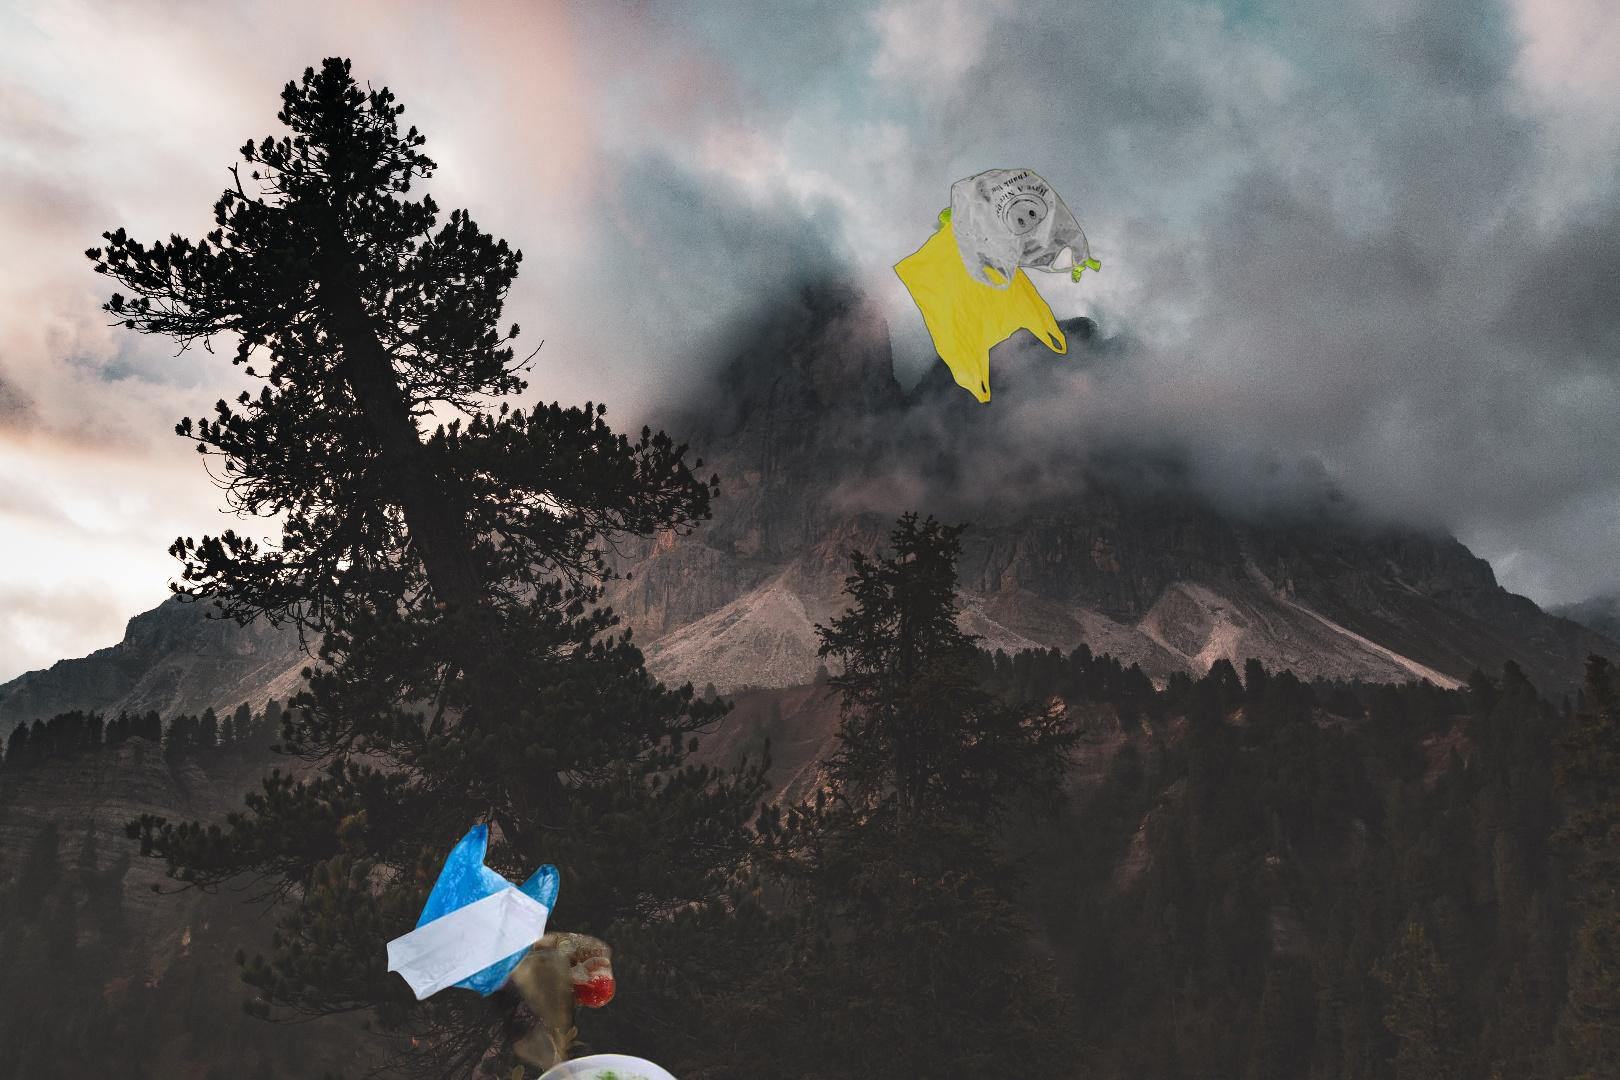biological: (530, 1006, 689, 1080)
plastic-bag: (385, 820, 652, 1080), (890, 166, 1104, 425)
